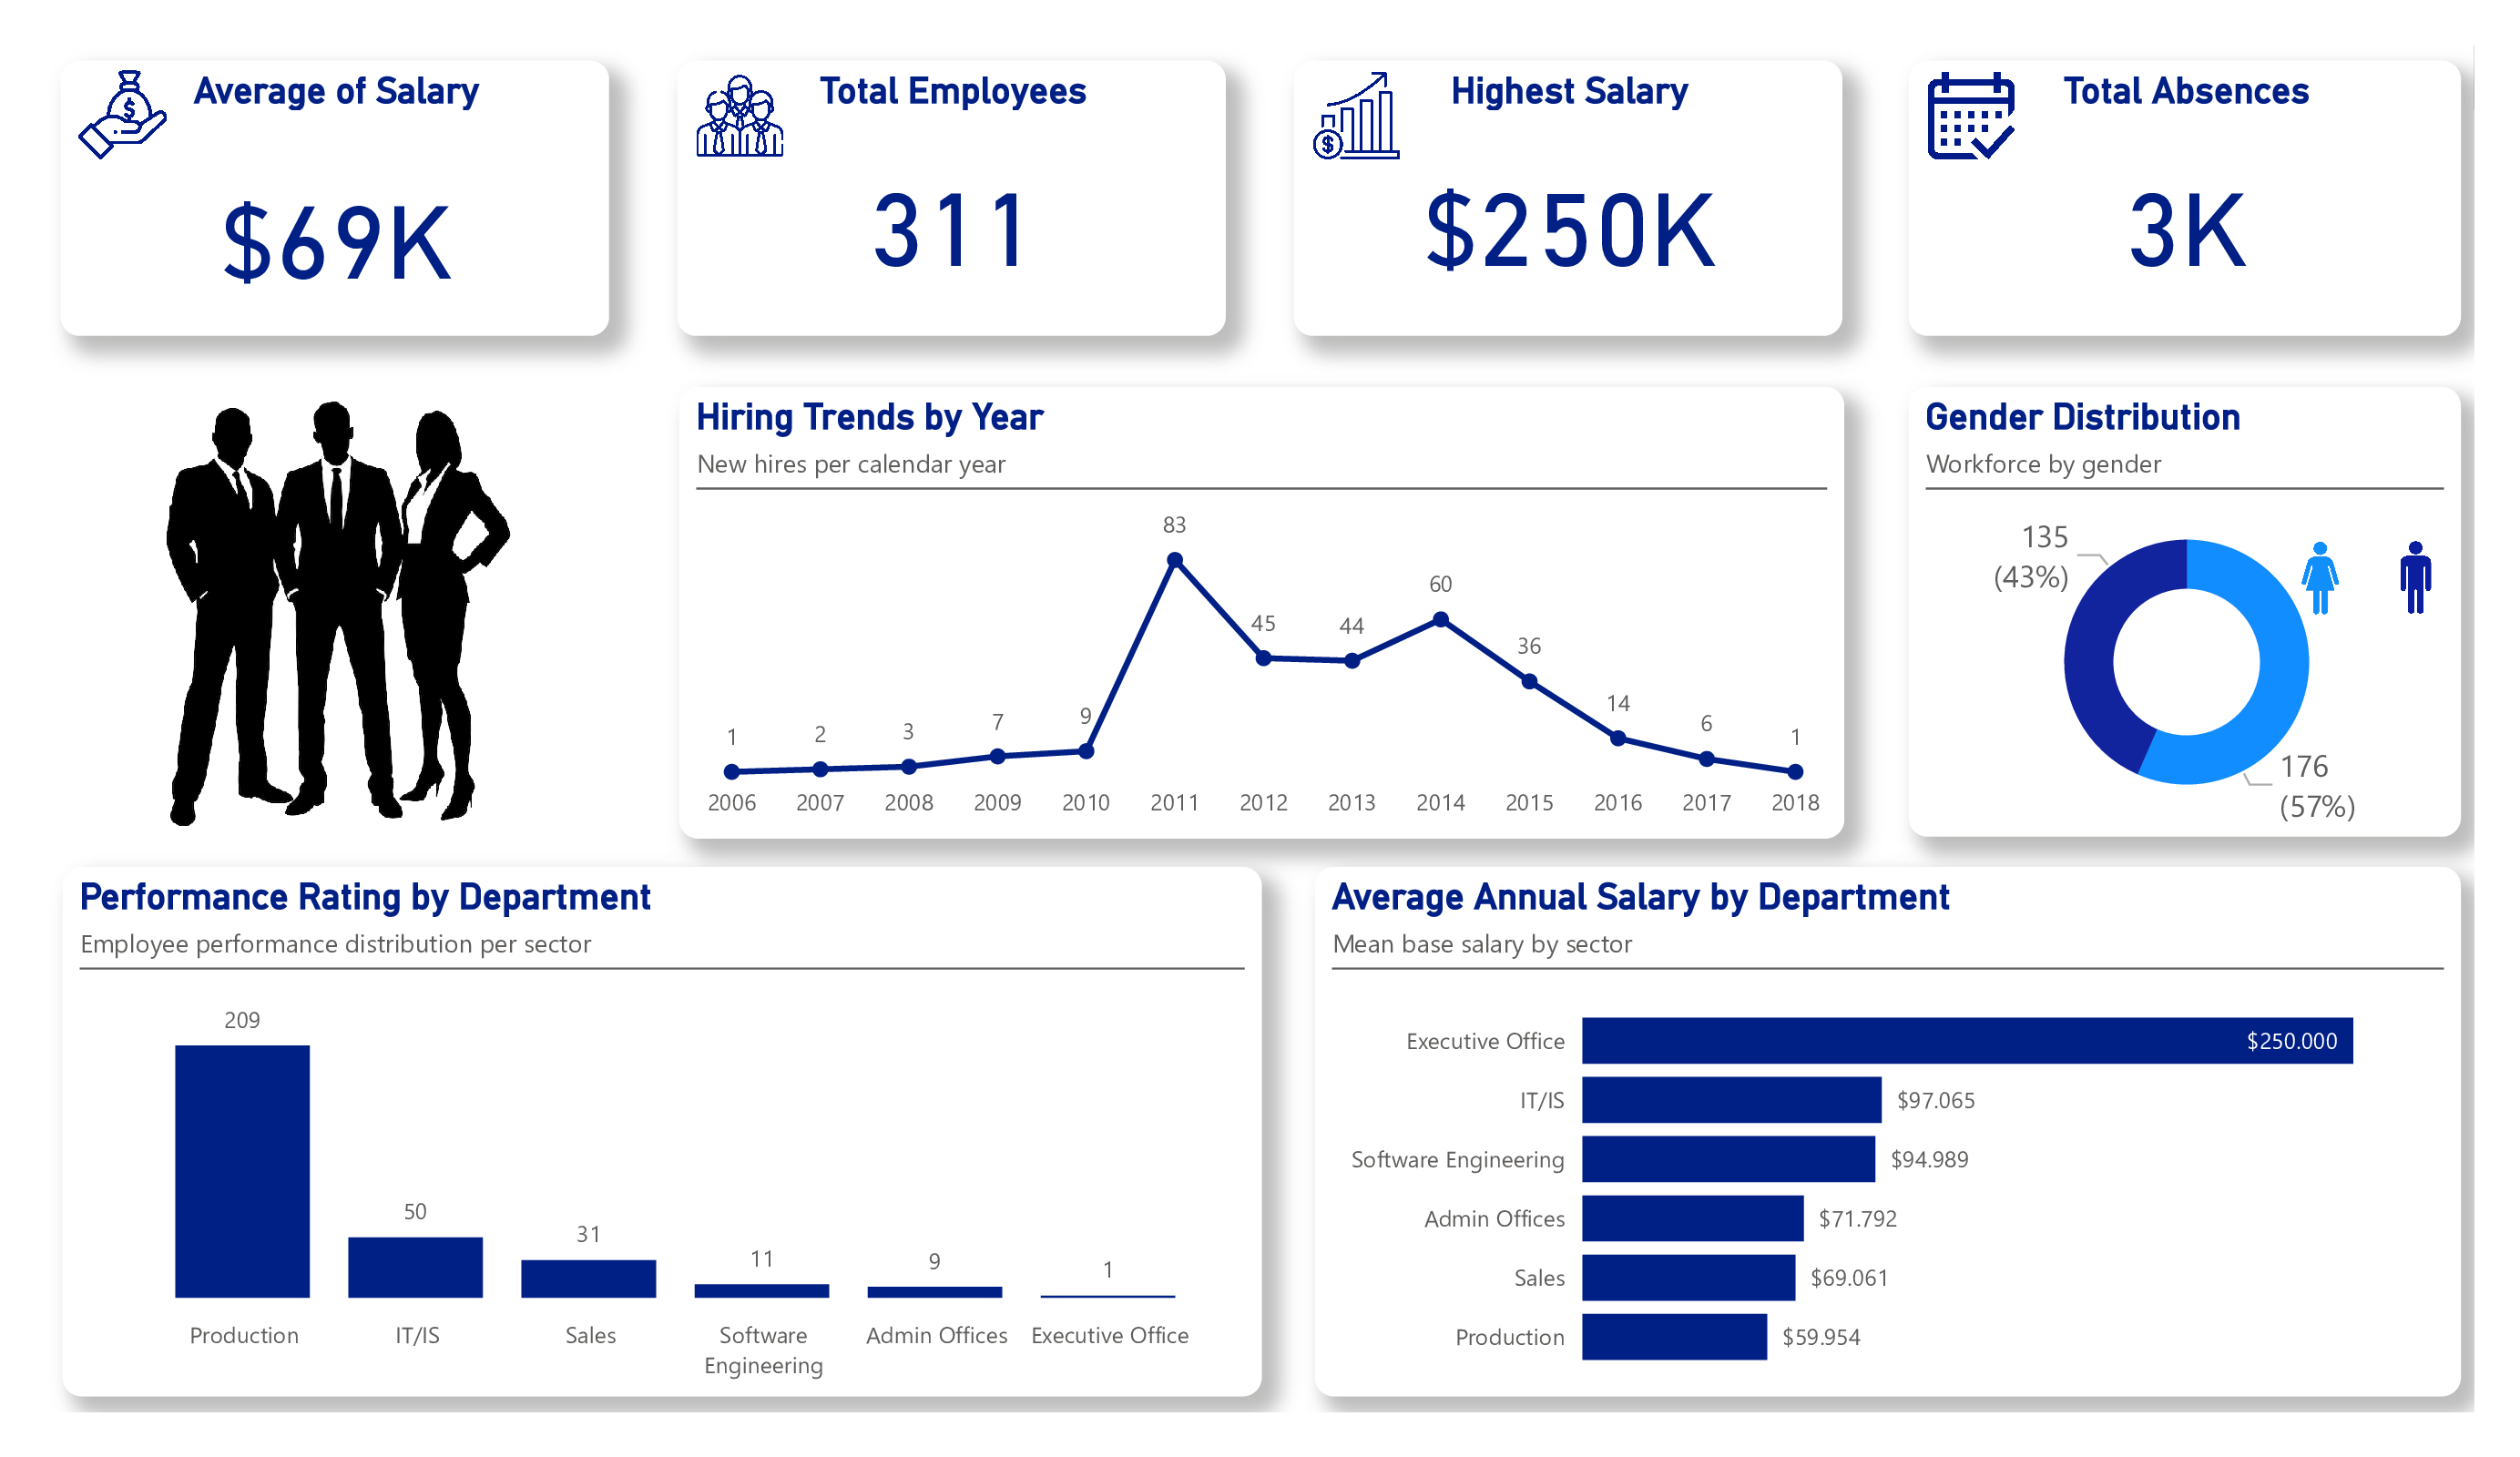

The dashboard page shown, as its layout file describes it:
{"tool":"powerbi","page":{"name":"Página 1","canvas":[1280,720],"ordinal":0},"visuals":[{"type":"cardVisual","title":"Average of Salary","fields":{"Data":["Avg(HRDataset_v14.Salary)"]},"box":[8.4,8.4,288.9,144.5],"z":0},{"type":"image","box":[8.4,8.4,65,57],"z":2},{"type":"cardVisual","title":"Total Employees","fields":{"Data":["HRDataset_v14.Total Employees"]},"box":[333.1,8.4,288.9,144.5],"z":3},{"type":"image","box":[332.8,8.8,65.1,56.3],"z":4},{"type":"cardVisual","title":"Highest Salary","fields":{"Data":["HRDataset_v14.Max Salary"]},"box":[657.8,8.4,288.9,144.5],"z":5},{"type":"image","box":[658.5,8.8,65.1,56.3],"z":6},{"type":"cardVisual","title":"Total Absences","fields":{"Data":["Sum(HRDataset_v14.Absences)"]},"box":[982.4,8.4,290.5,144.4],"z":7},{"type":"image","box":[982.4,8.8,65.1,56.3],"z":8},{"type":"donutChart","title":"Gender Distribution","fields":{"Category":["HRDataset_v14.Sex"],"Y":["CountNonNull(HRDataset_v14.Sex)"]},"box":[982.4,179.6,290.5,237.7],"z":9},{"type":"lineChart","title":"Hiring Trends by Year","fields":{"Category":["HRDataset_v14.DateofHire.Variation.Hierarquia de datas.Ano"],"Y":["CountNonNull(HRDataset_v14.Employee_Name)"]},"box":[333.7,180.1,614.4,238.3],"z":10},{"type":"image","box":[1174.1,256,49.4,49.4],"z":11},{"type":"image","box":[1223.5,256,49.4,49.4],"z":12},{"type":"clusteredBarChart","title":"Average Annual Salary by Department","fields":{"Category":["HRDataset_v14.Department"],"Y":["Avg(HRDataset_v14.Salary)"]},"box":[669.1,432.6,603.8,279],"z":13},{"type":"columnChart","title":"Performance Rating by Department","fields":{"Category":["HRDataset_v14.Department"],"Y":["CountNonNull(HRDataset_v14.EmpID)"]},"box":[8.8,432.6,632.1,279],"z":14},{"type":"image","box":[8.8,180.1,289.5,238.3],"z":15}]}

Visuals, with their boxes on the page's 1280x720 design canvas (x1, y1, x2, y2). These are canvas units, not pixel positions in the 2520x1457 screenshot, which may show the page scaled, cropped or inside an application window:
"Average of Salary" cardVisual: l=8, t=8, r=297, b=153
image: l=8, t=8, r=73, b=65
"Total Employees" cardVisual: l=333, t=8, r=622, b=153
image: l=333, t=9, r=398, b=65
"Highest Salary" cardVisual: l=658, t=8, r=947, b=153
image: l=658, t=9, r=724, b=65
"Total Absences" cardVisual: l=982, t=8, r=1273, b=153
image: l=982, t=9, r=1048, b=65
"Gender Distribution" donutChart: l=982, t=180, r=1273, b=417
"Hiring Trends by Year" lineChart: l=334, t=180, r=948, b=418
image: l=1174, t=256, r=1224, b=305
image: l=1224, t=256, r=1273, b=305
"Average Annual Salary by Department" clusteredBarChart: l=669, t=433, r=1273, b=712
"Performance Rating by Department" columnChart: l=9, t=433, r=641, b=712
image: l=9, t=180, r=298, b=418
